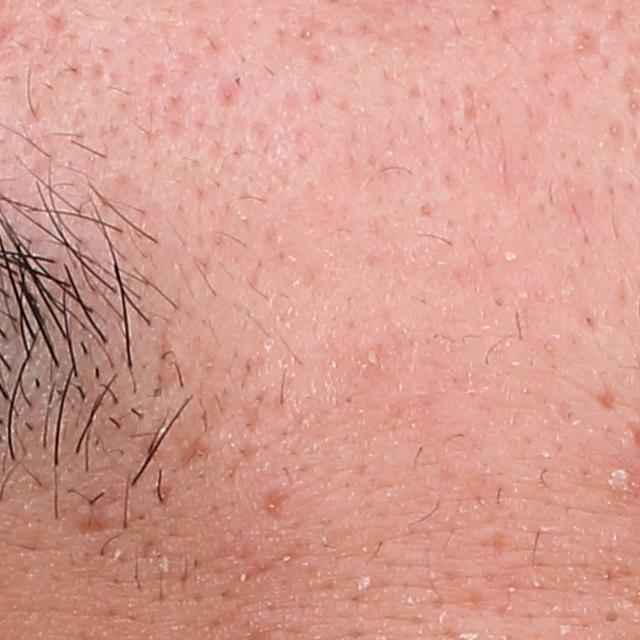atrophic_scar: (182, 440, 211, 472)
comedo: (294, 27, 316, 46), (599, 611, 623, 624)
